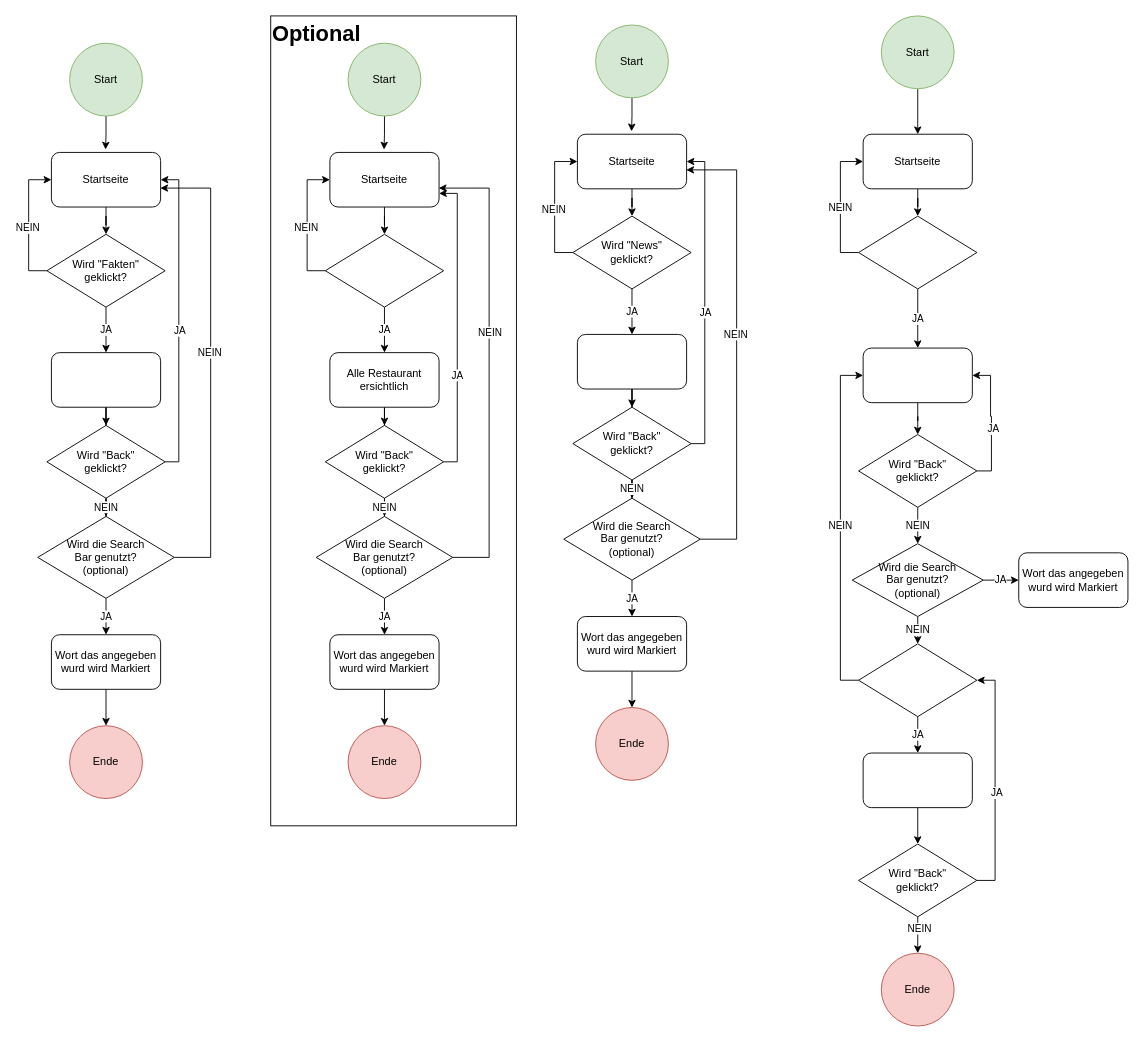
The diagram is 1144 pixels wide and 1042 high, and some of its shapes have lost their labels. The centre of each missing label's shape, as x and y in pixels:
Alle Fakten ersichtlich: (x=106, y=379)
Alle News ersichtlich: (x=631, y=361)
Alle Rezepte Ersichtlich: (x=917, y=375)
Wird "Restaurant" geklickt?: (x=384, y=270)
Wird "Rezepte" geklcikt?: (x=917, y=252)
Wird Spezifisches Rezept angeklickt?: (x=917, y=680)
Zutaten und Anleitung ersichtlich: (x=917, y=780)
